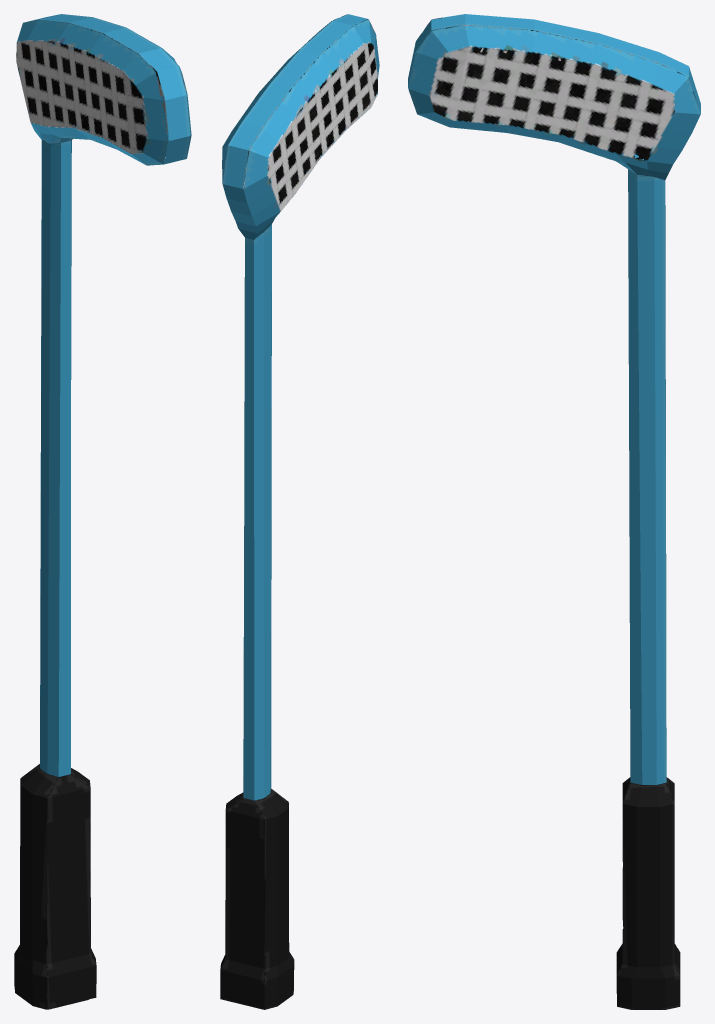
The model's file is FloorballStick_Blue.fbx.
3 views of the same model, side by side, from view 1: azimuth 30°, elevation 25°; view 2: azimuth 150°, elevation 25°; view 3: azimuth 270°, elevation 25° (orthographic). The views are drawn at different scales.
Parts seen in each view (by area): view 1: Cube.004; view 2: Cube.004; view 3: Cube.004.
Part boxes in pixels (x1,y1,x2,y2): Cube.004: [14, 14, 191, 1009]; Cube.004: [220, 14, 379, 1009]; Cube.004: [408, 14, 700, 1009].
Size of the model in its own units: 9.98 by 153 by 41.63.
